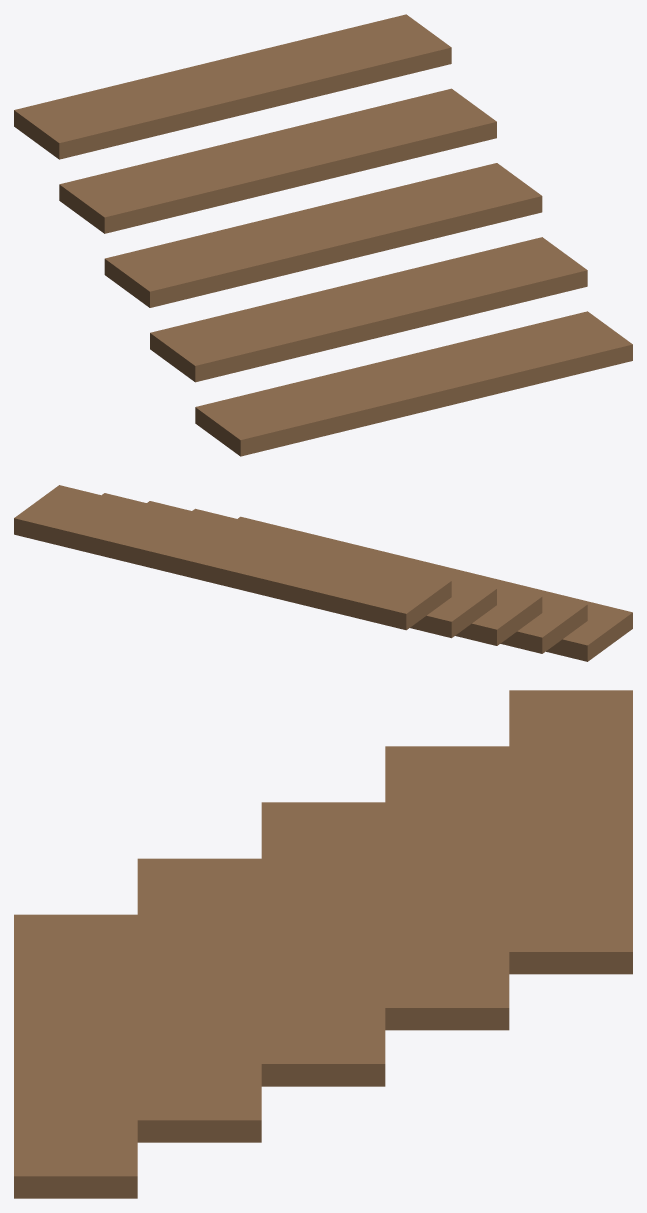
File: wood_stairs.glb
The picture shows the model from 3 angles, top to bottom: view 1: azimuth 30°, elevation 25°; view 2: azimuth 150°, elevation 25°; view 3: azimuth 270°, elevation 25°; orthographic projection. The views are drawn at different scales.
Visible parts, largest first — view 1: Cube; view 2: Cube; view 3: Cube.
Part boxes in pixels (box(x1,y1,x2,y2)): Cube: box(14, 14, 632, 456); Cube: box(14, 485, 632, 661); Cube: box(14, 690, 632, 1198).
Size of the model in its own units: 1 by 0.44 by 1.
